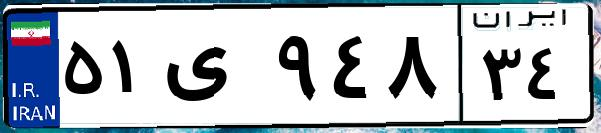1: (110, 28, 158, 98)
3: (475, 38, 525, 113)
4: (330, 28, 385, 110), (525, 38, 570, 115)
5: (57, 26, 110, 100)
8: (385, 28, 445, 110)
9: (270, 28, 330, 110)
ی: (158, 20, 270, 120)
